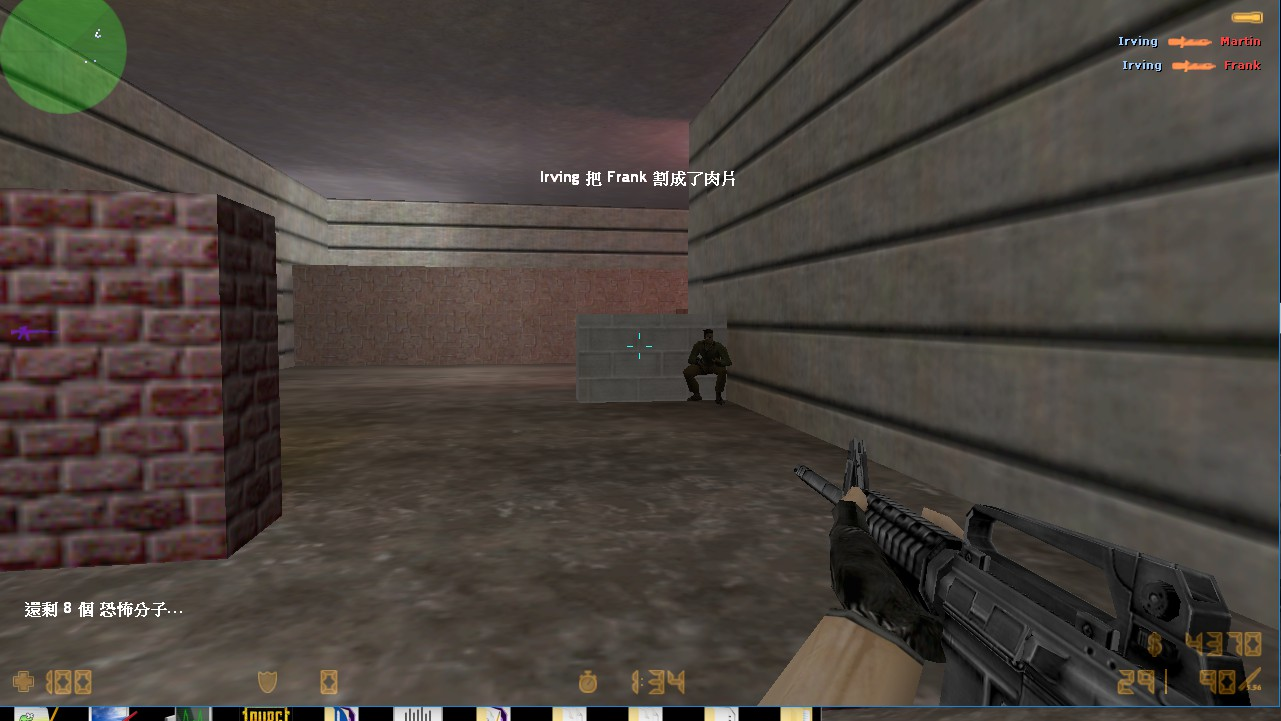person: (681, 324, 735, 418)
